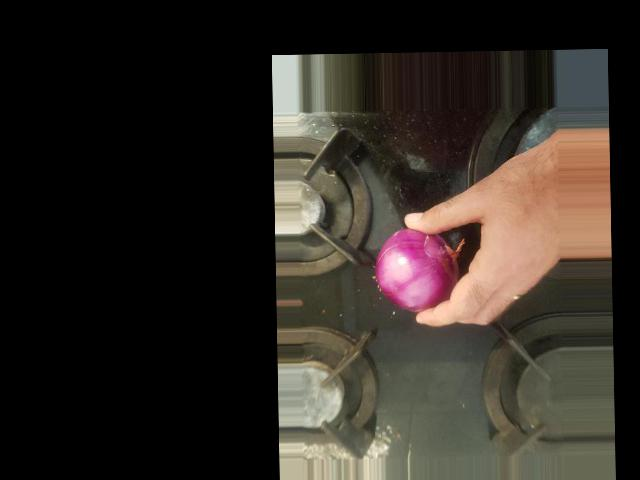onion: (326, 299, 419, 381)
